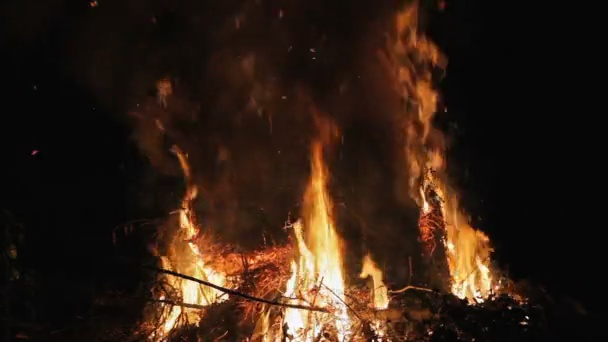fire: (288, 148, 349, 342), (396, 9, 438, 230), (155, 253, 224, 333), (443, 194, 490, 302), (364, 260, 388, 309), (177, 190, 197, 238)
